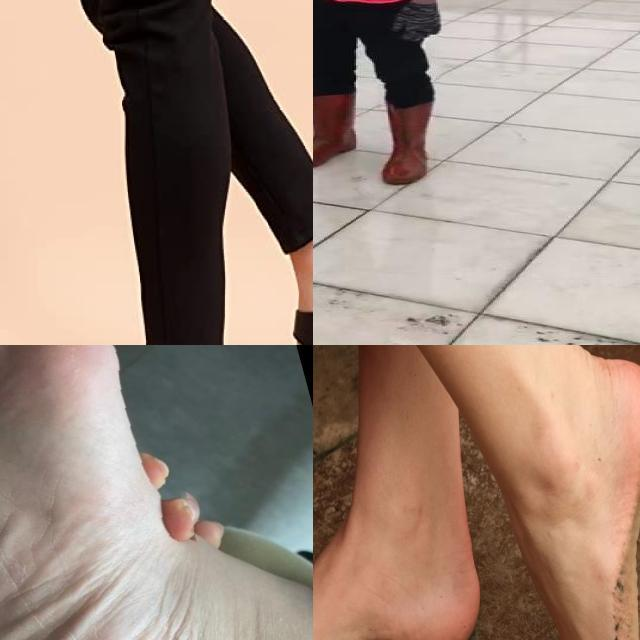Barefoots: (0, 345, 271, 640), (516, 358, 640, 640), (313, 533, 481, 640)
boots: (378, 102, 434, 185), (313, 93, 359, 172)
person: (313, 0, 468, 190)
